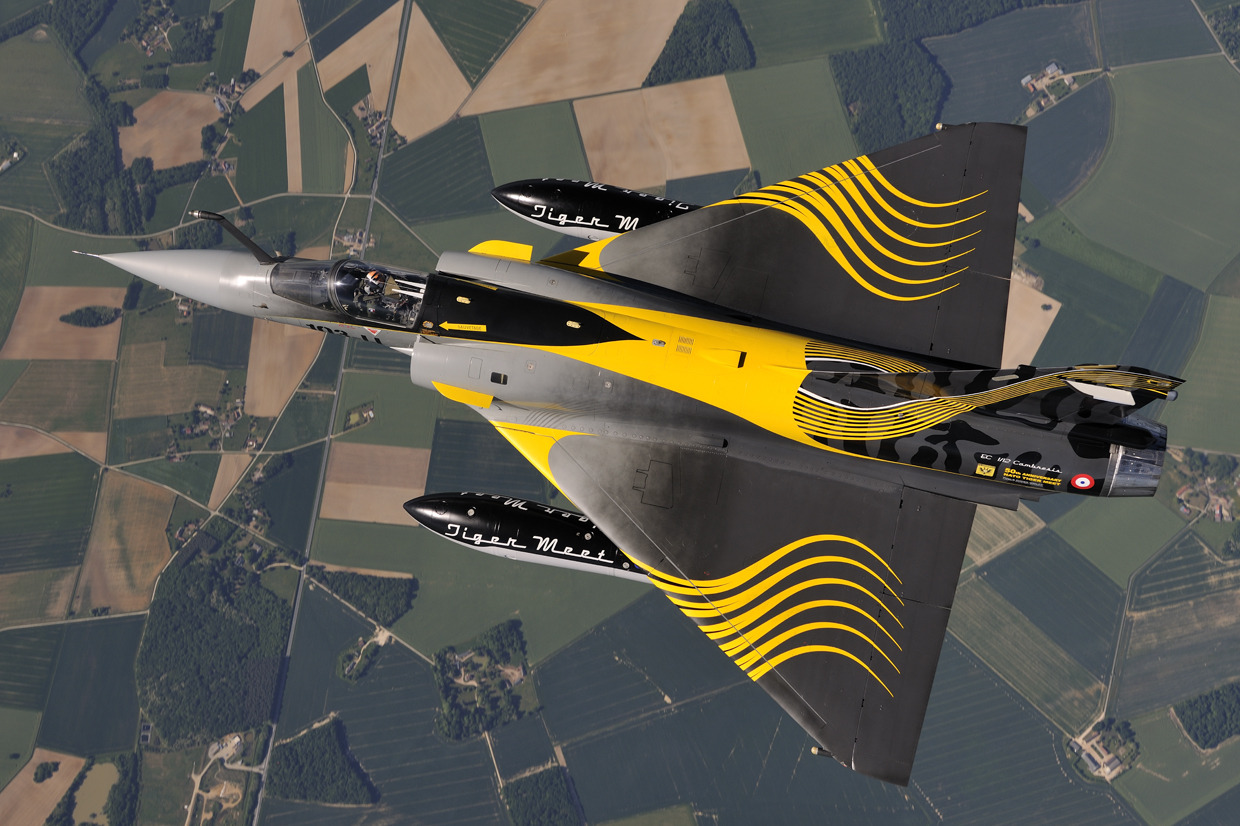Mirage2000: (70, 122, 1188, 787)
